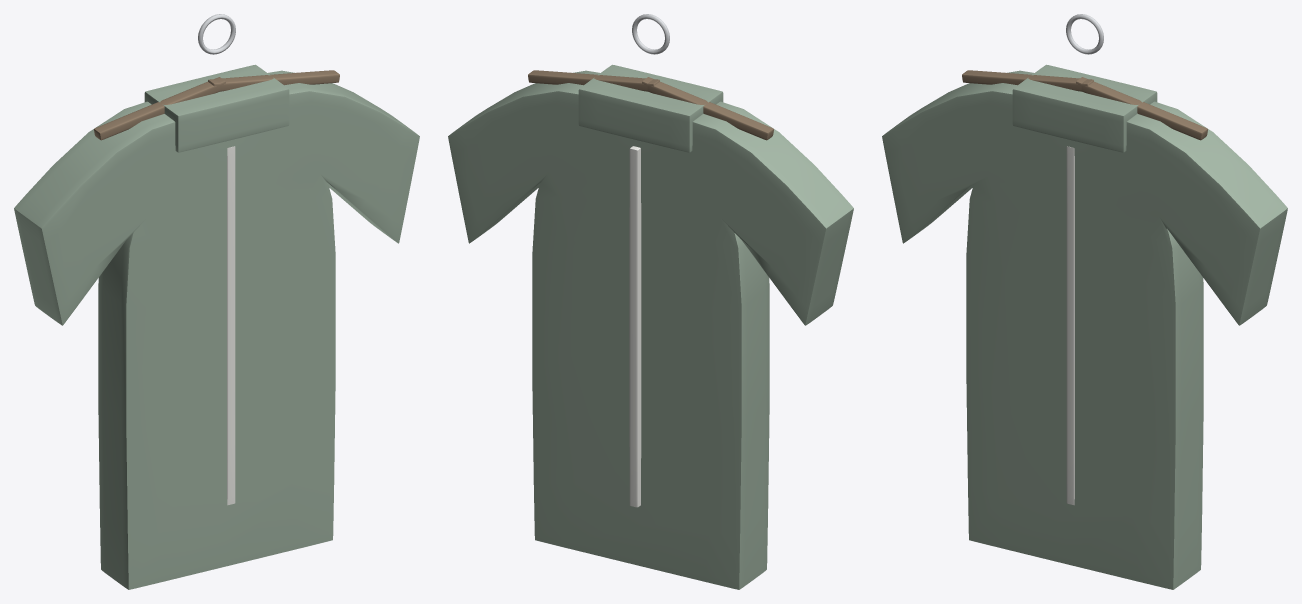
The model's file is jacket_hanging.glb.
3 renders of one model, left to right at view 1: azimuth 30°, elevation 25°; view 2: azimuth 150°, elevation 25°; view 3: azimuth 330°, elevation 25°, orthographic.
Parts seen in each view (by area): view 1: jacket_hanging; view 2: jacket_hanging; view 3: jacket_hanging.
Part boxes in pixels (box(x1,y1,x2,y2)): jacket_hanging: box(14, 14, 419, 589); jacket_hanging: box(448, 14, 853, 589); jacket_hanging: box(882, 14, 1287, 589).
Bounding box in the file's own units: 0.575 × 0.7851 × 0.0914.
